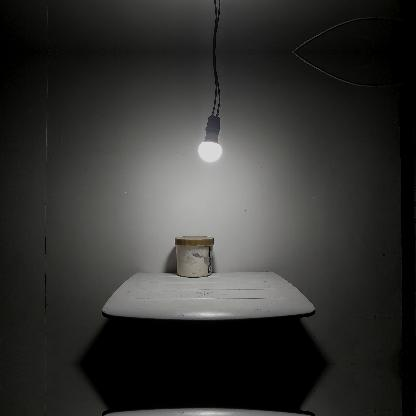Lady-s-Choice: (174, 236, 216, 276)
